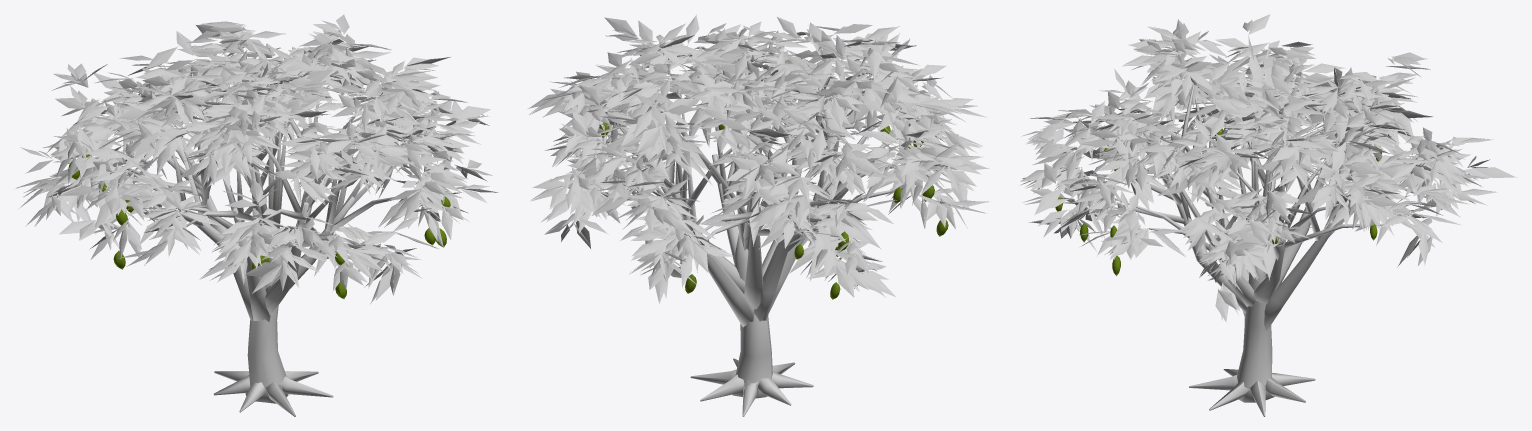
File: MangoTree_LOD2.fbx
3 views of the same model, side by side, from view 1: azimuth 30°, elevation 25°; view 2: azimuth 150°, elevation 25°; view 3: azimuth 270°, elevation 25° (orthographic). The views are drawn at different scales.
Parts seen in each view (by area): view 1: Leaves_LOD2, Bark_LOD2, Fruit_LOD2; view 2: Leaves_LOD2, Bark_LOD2, Fruit_LOD2; view 3: Leaves_LOD2, Bark_LOD2, Fruit_LOD2.
Boxes of the visible parts, x1,y1,x2,y2 form: Leaves_LOD2: [16, 14, 498, 304]; Bark_LOD2: [117, 69, 401, 416]; Fruit_LOD2: [57, 143, 450, 298]; Leaves_LOD2: [528, 14, 989, 303]; Bark_LOD2: [616, 73, 903, 416]; Fruit_LOD2: [599, 103, 948, 299]; Leaves_LOD2: [1020, 14, 1516, 321]; Bark_LOD2: [1088, 77, 1426, 416]; Fruit_LOD2: [1055, 128, 1442, 275].
Size of the model in its own units: 569 by 428 by 579.
